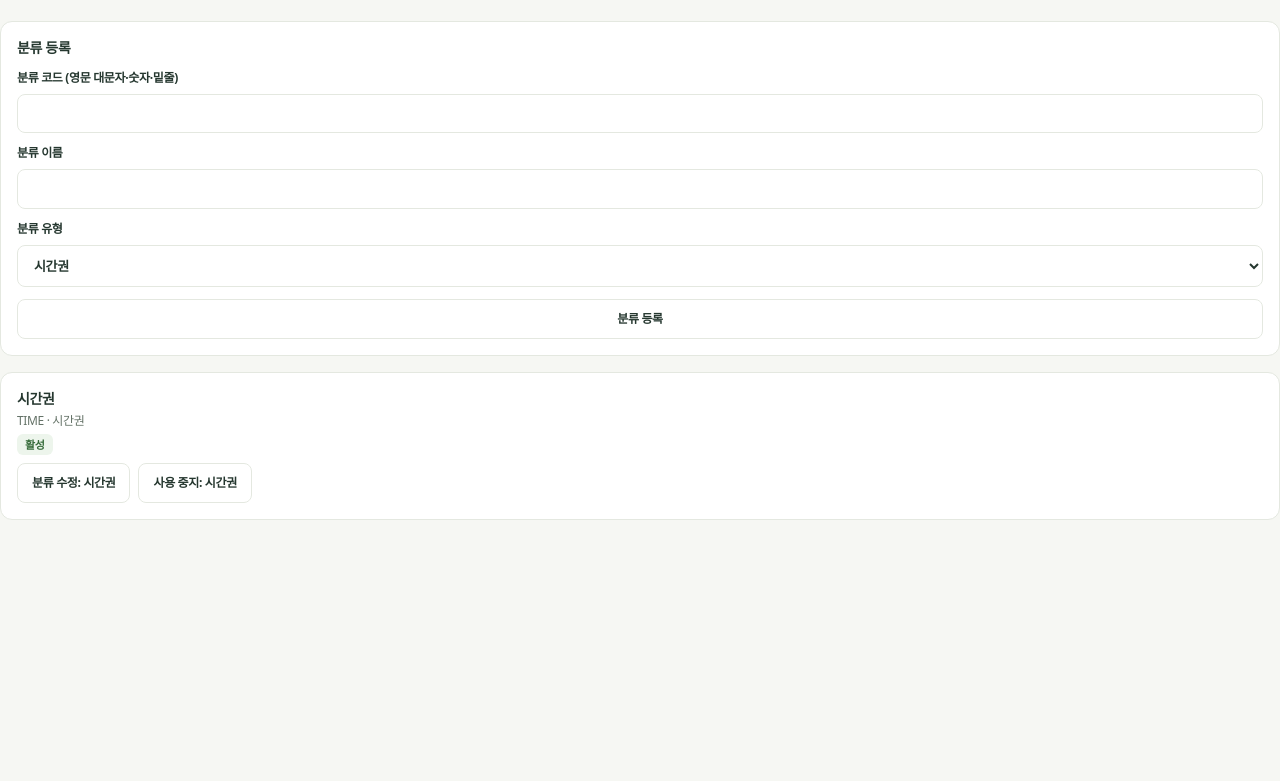
requires another comparison if a second conflict occurs after the latest copy was loaded
This screenshot has width=1280, height=781.
Click the button "분류 수정: 시간권" at (74, 483), box [17,463,130,503]
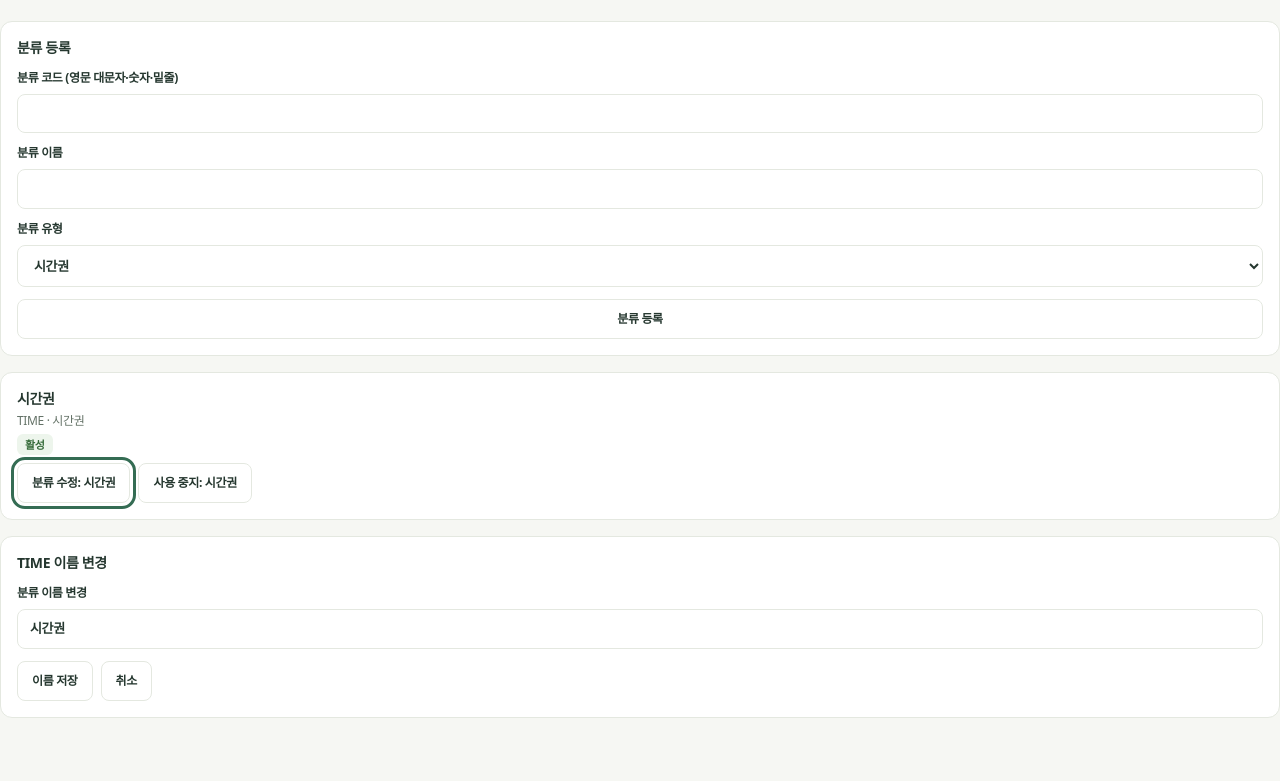
Replace the text in the field labelled "분류 이름 변경" with "내가 작성한 이름" at (640, 629), box [17,609,1263,649]
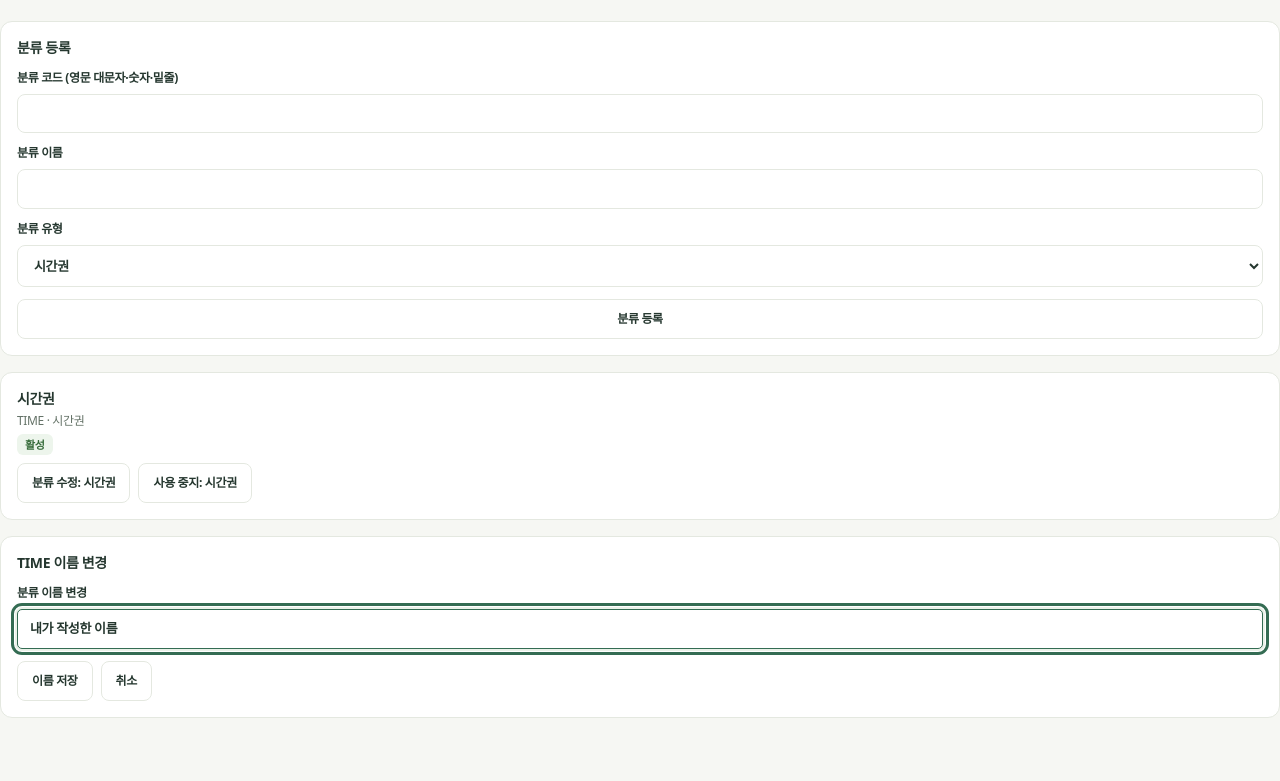
Click the button "이름 저장" at (55, 681), box [17,661,92,701]
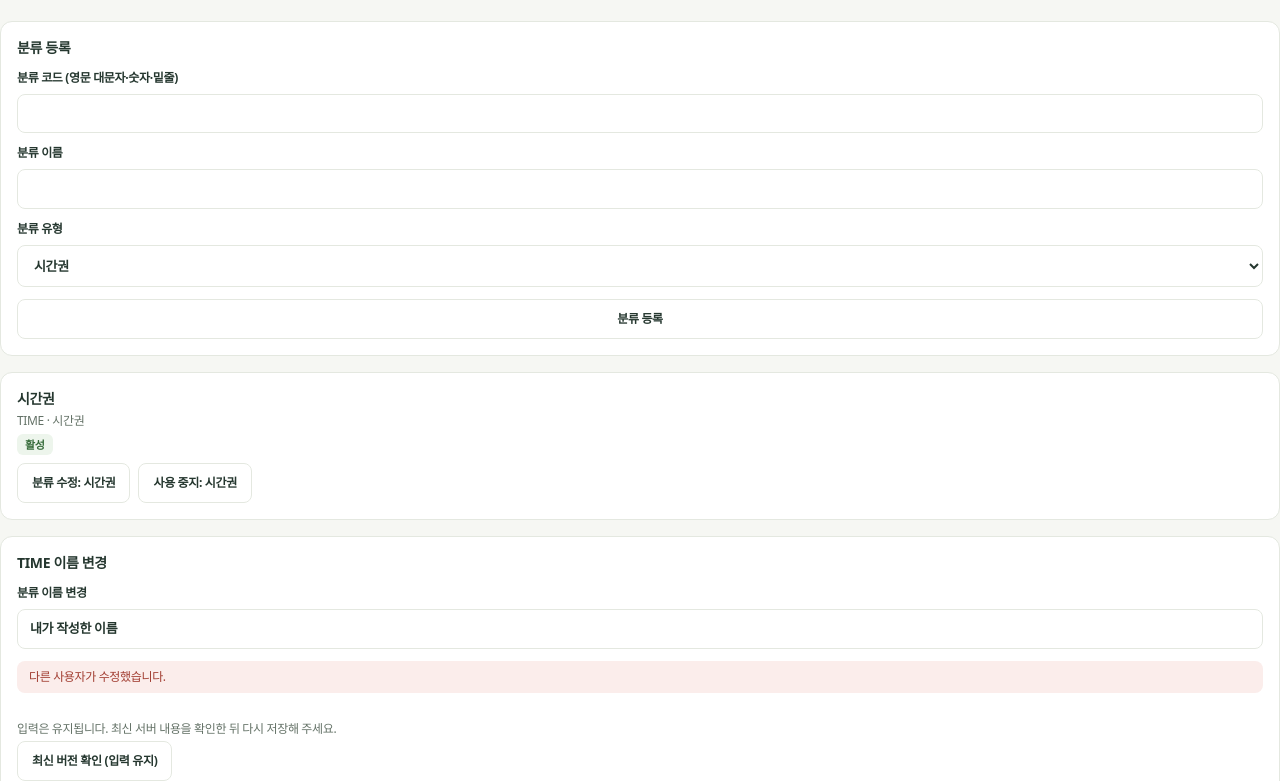
expect the text "다른 사용자가 수정했습니다." is shown: met, box [17,661,1263,693]
Click the button "최신 버전 확인 (입력 유지)" at (95, 761), box [17,741,172,780]
(page scrolled)
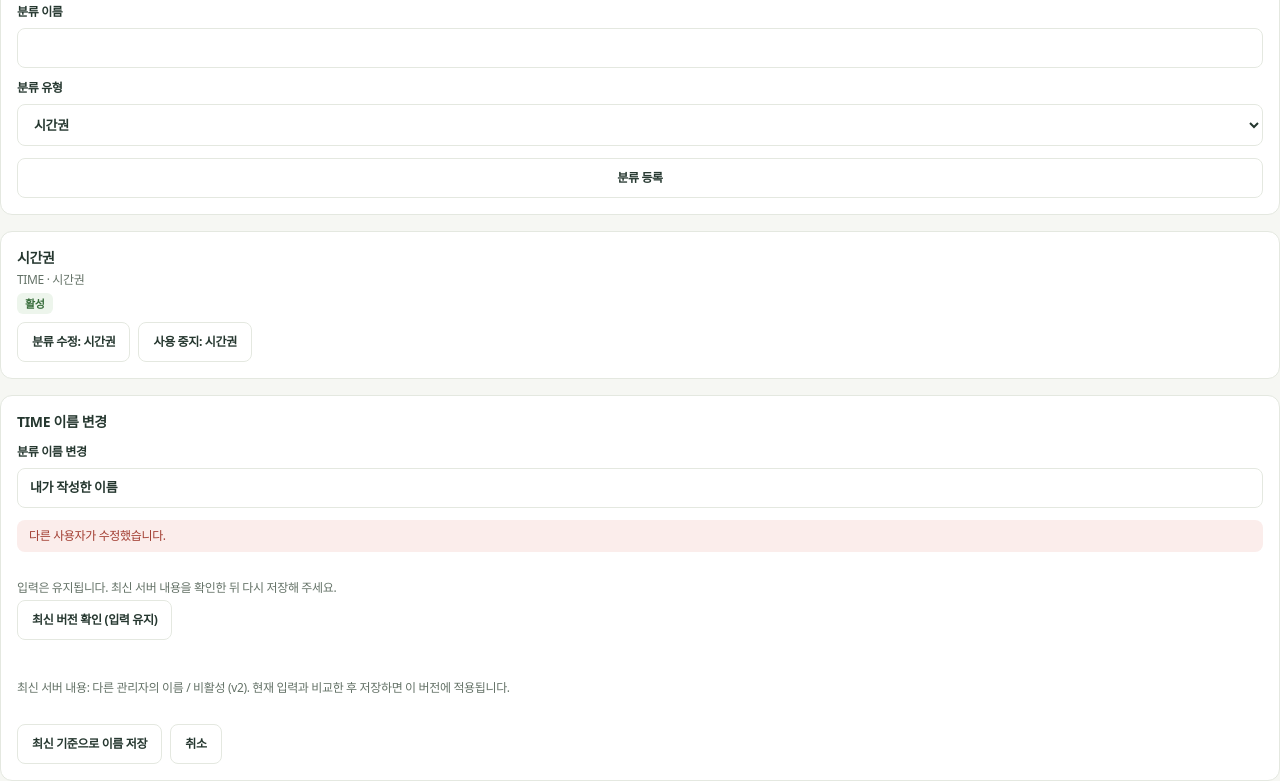
expect the message "최신 서버 내용: 다른 관리자의 이름 / 비활성 (v2). 현재 입력과 비교한 후 저장하면 이 버전에 적용됩니다." is shown: met, box [17,679,510,696]
Click the button "최신 기준으로 이름 저장" at (90, 744), box [17,724,162,764]
(page scrolled)
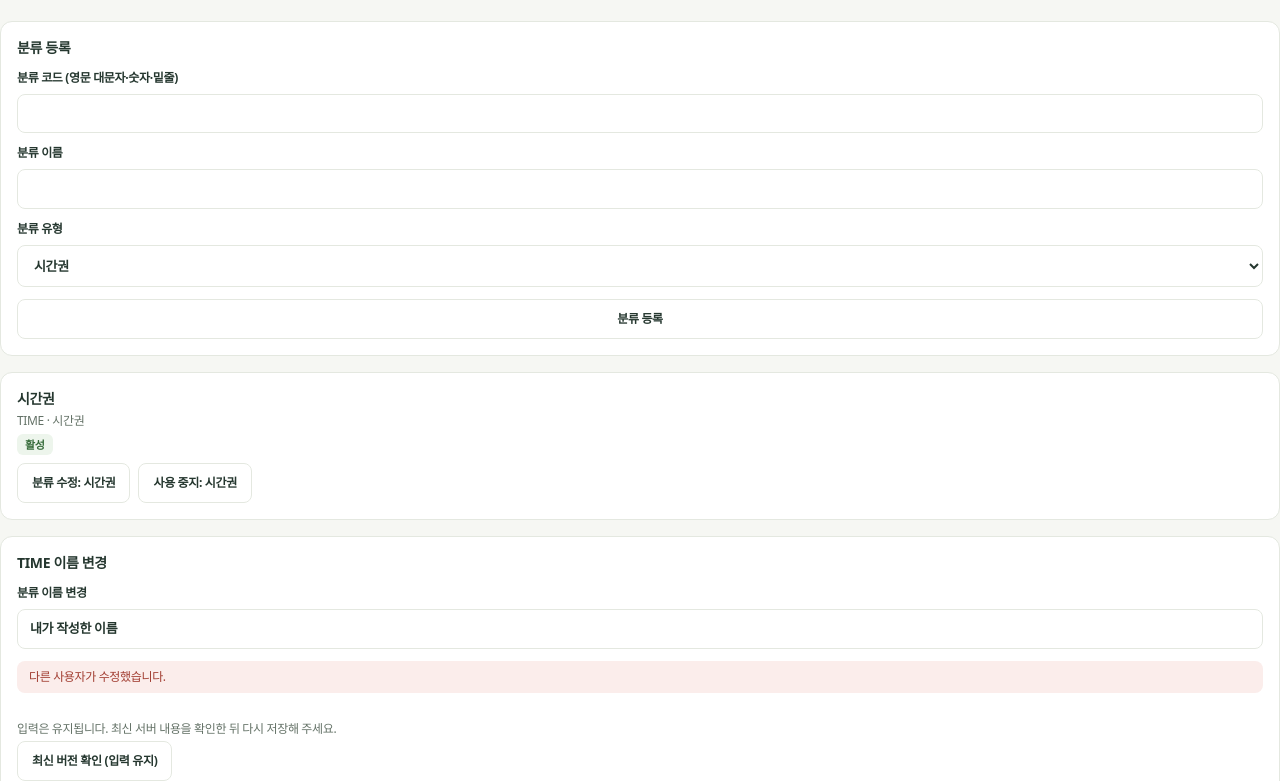
expect the text "다른 사용자가 수정했습니다." is shown: met, box [17,661,1263,693]
expect the text "최신 서버 내용:" is gone: met
